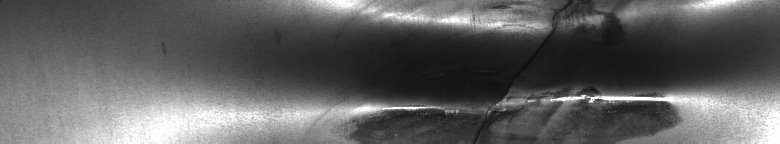ke: (345, 4, 735, 136)
